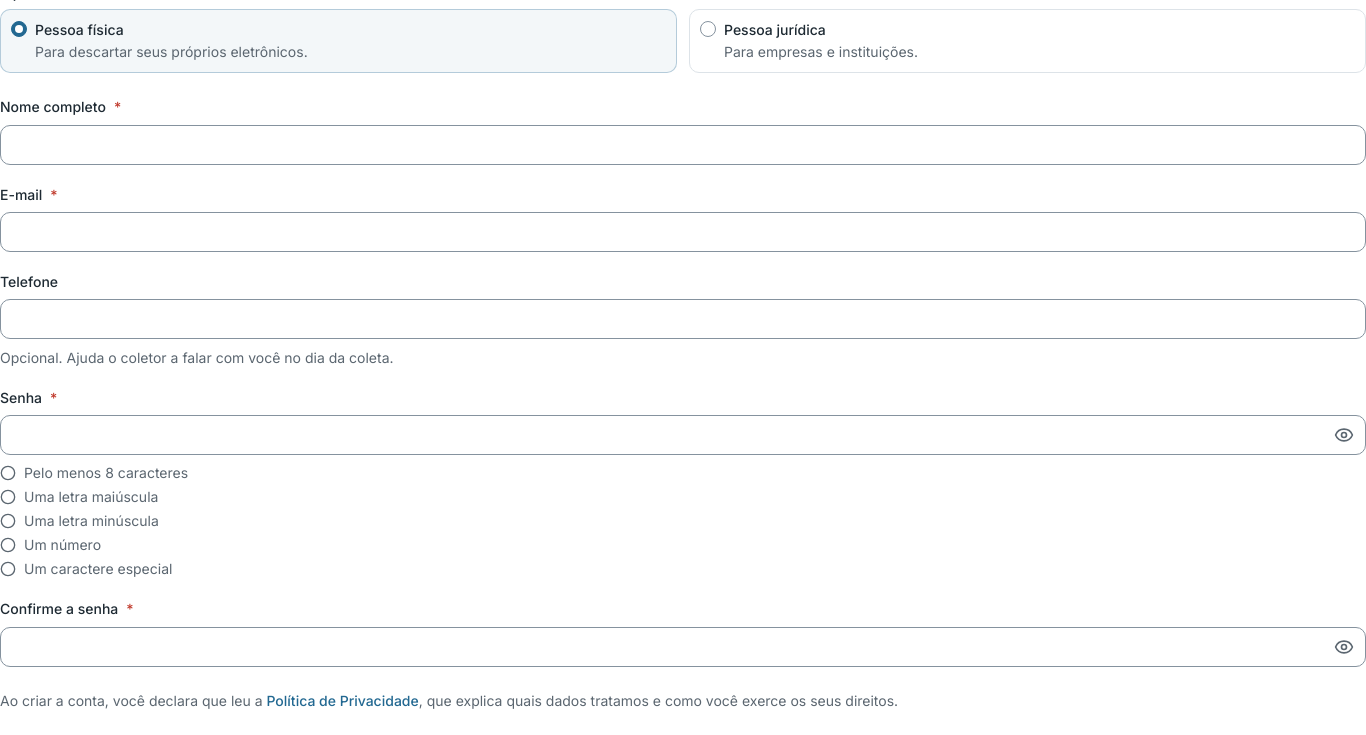
it: RegistrationForm (11 §70, 17_TESTING §77) › leva os erros de campo da API para o campo correspondente
In the field labelled "Nome completo *": (683, 144) [0,124,1365,164], type "Mariana Oliveira"
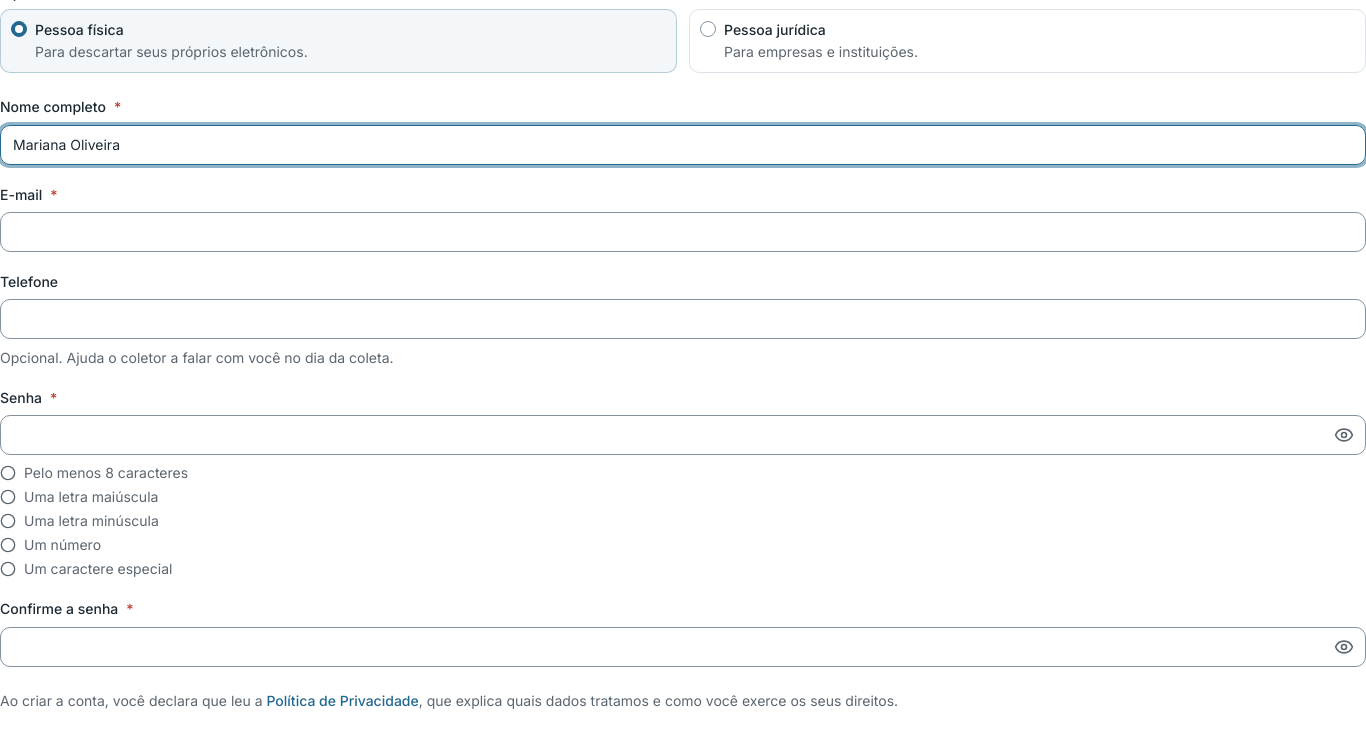
In the field labelled "E-mail *": (683, 232) [0,212,1365,252], type "mariana@teste.local"
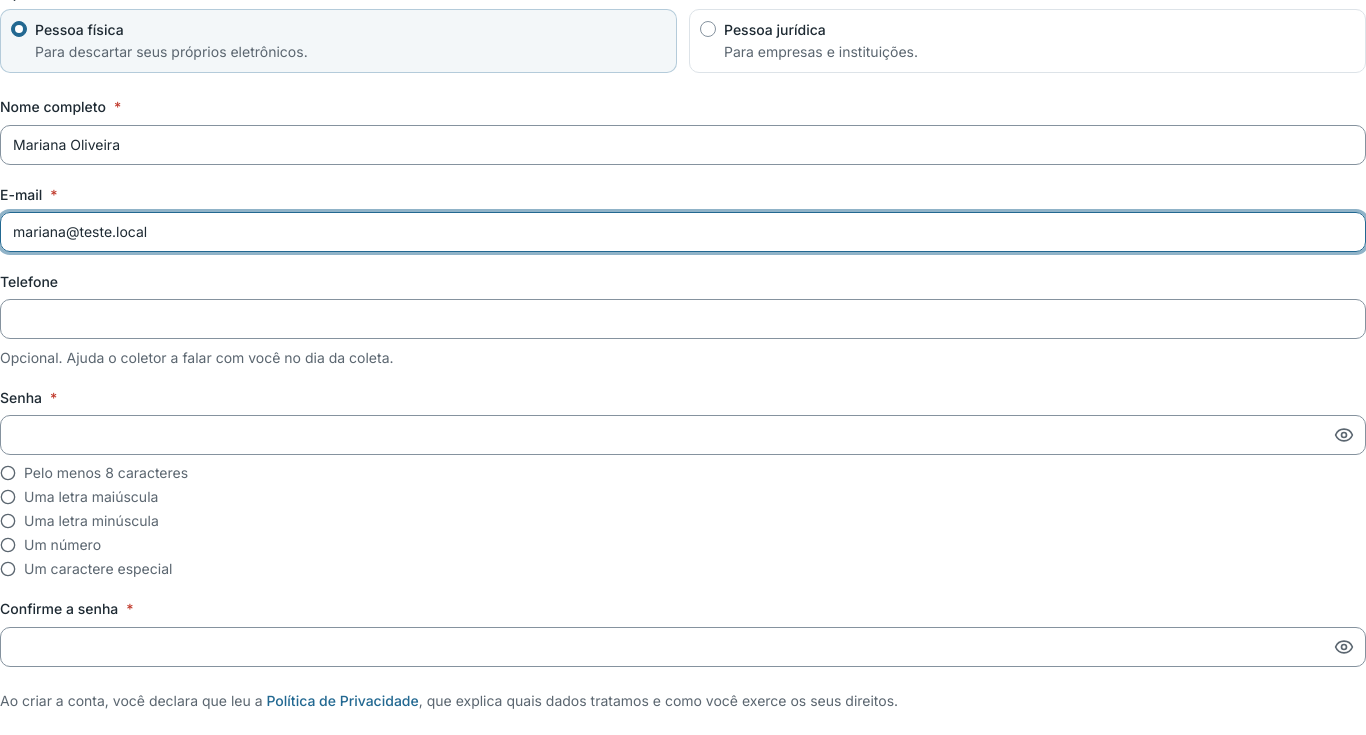
In the password field labelled "Senha *": (683, 435) [0,415,1365,455], type "Senha@123"
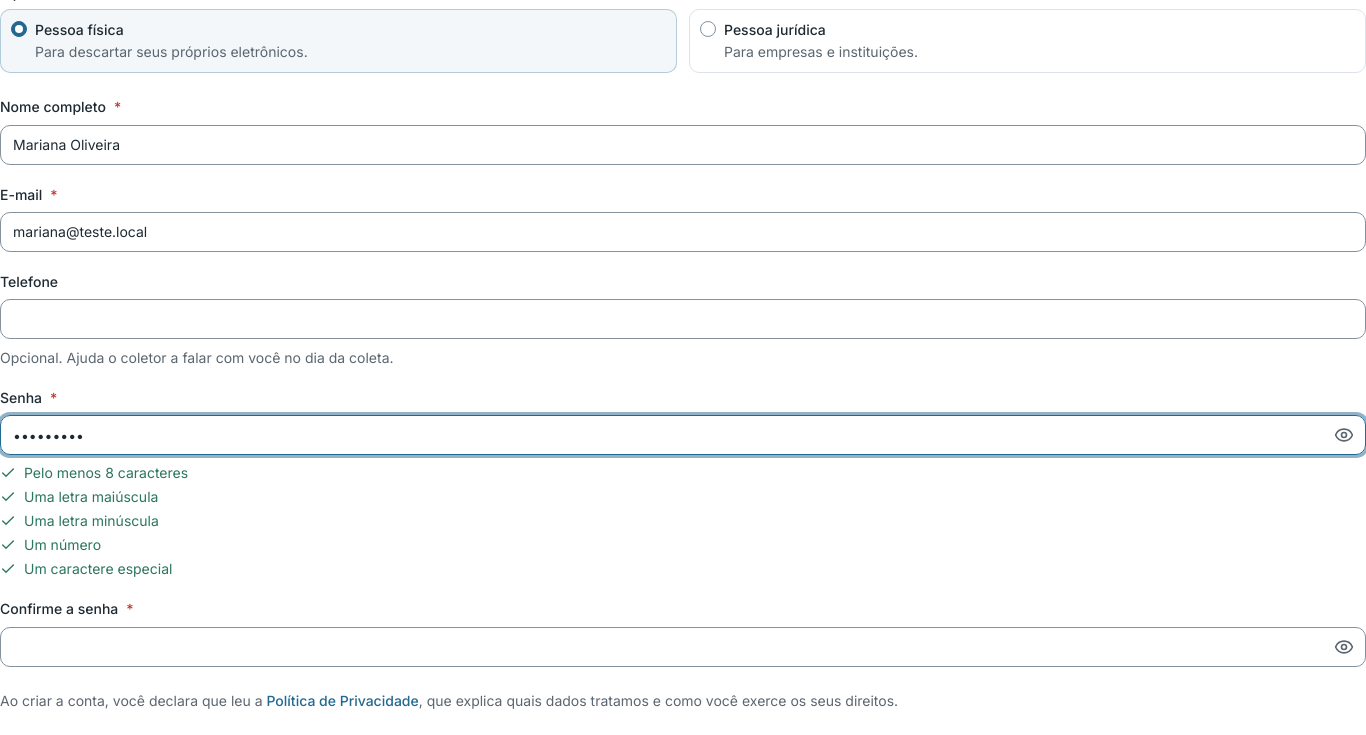
In the password field labelled "Confirme a senha *": (683, 646) [0,626,1365,666], type "Senha@123"
(page scrolled)
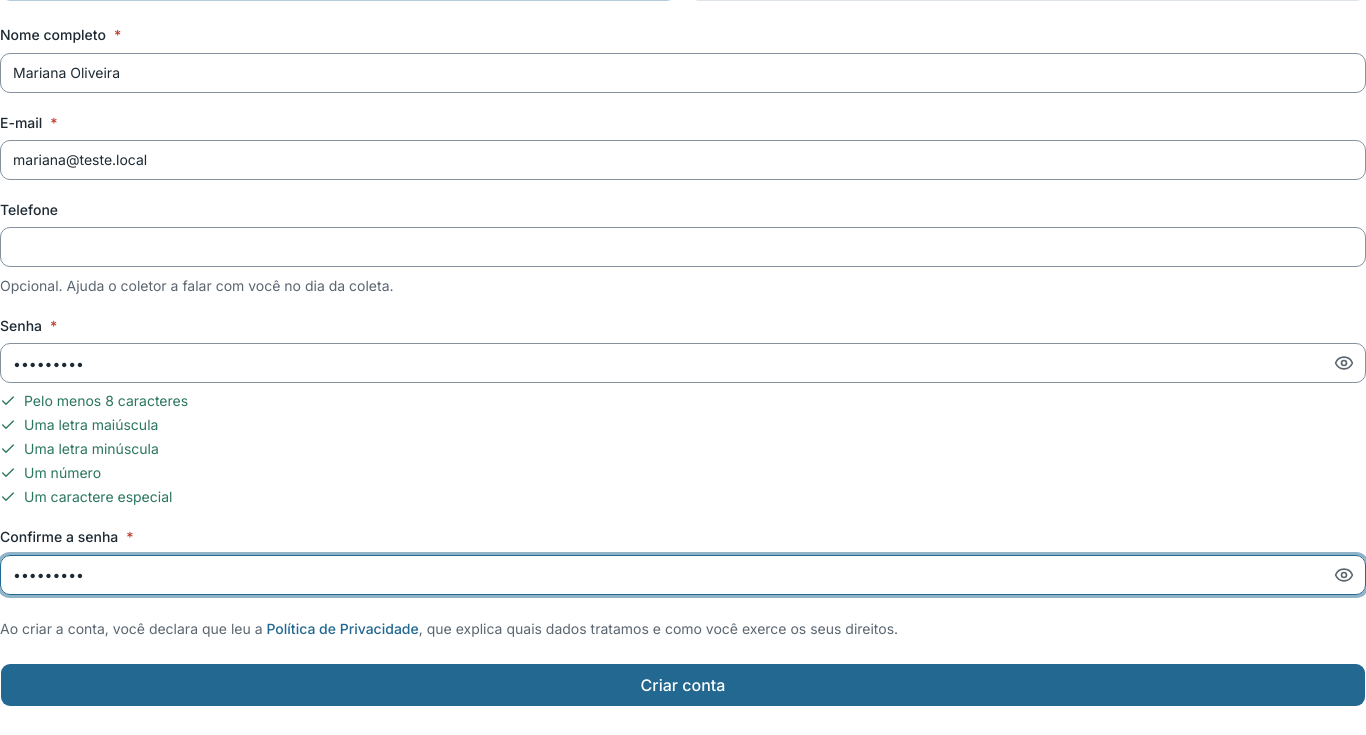
Click the button "Criar conta": (683, 684) [0,662,1365,706]
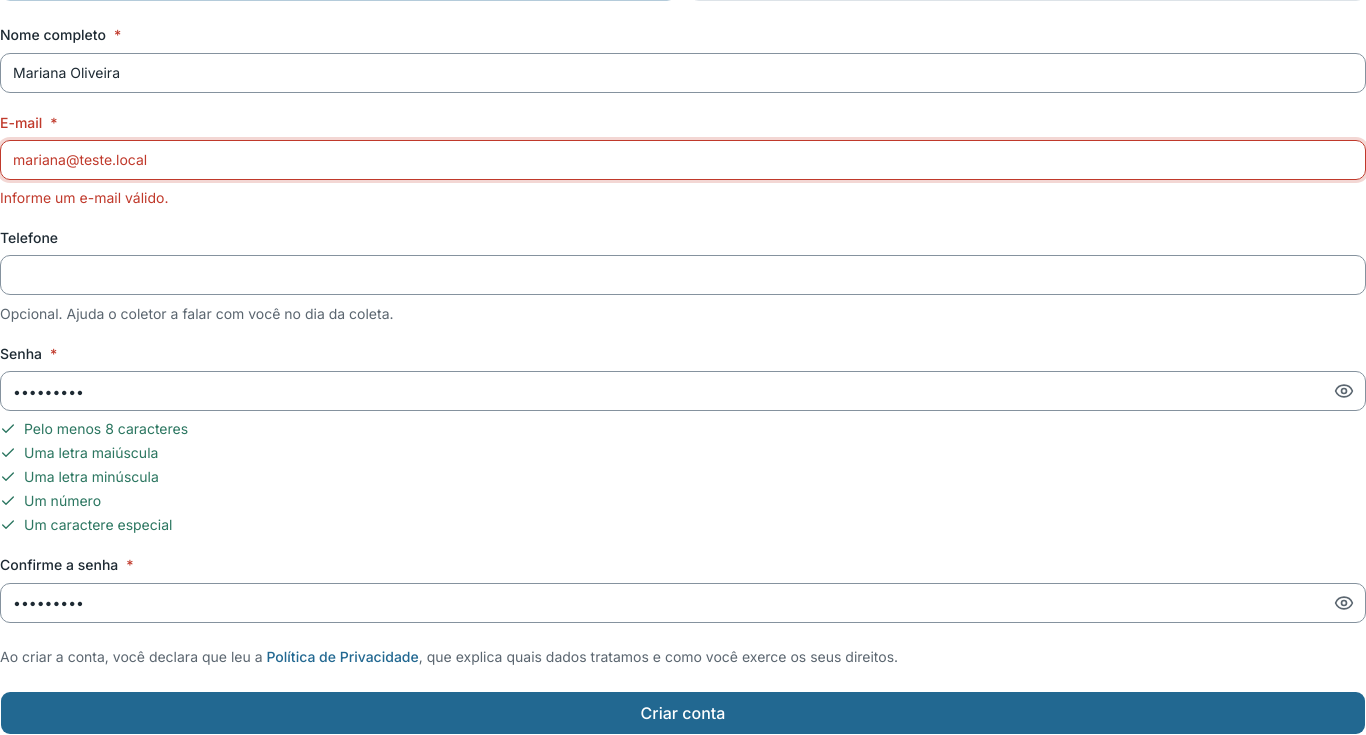
Expected: the text "Informe um e-mail válido." is shown, [0,189,168,206]
